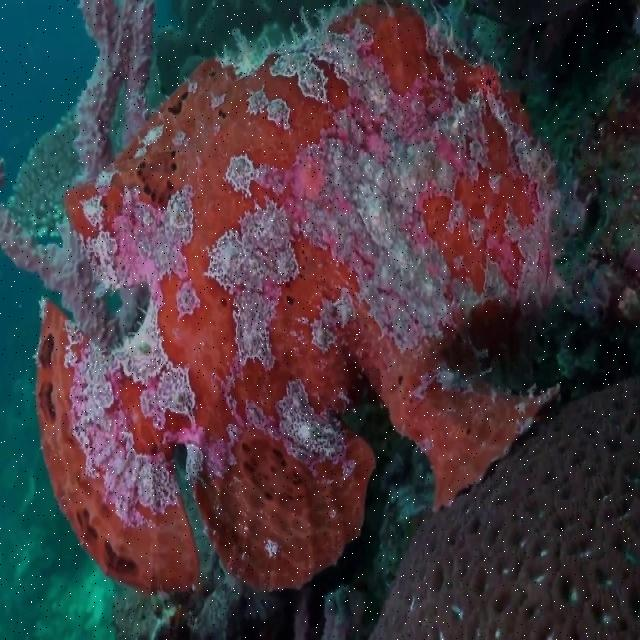reefs: (0, 0, 560, 599)
